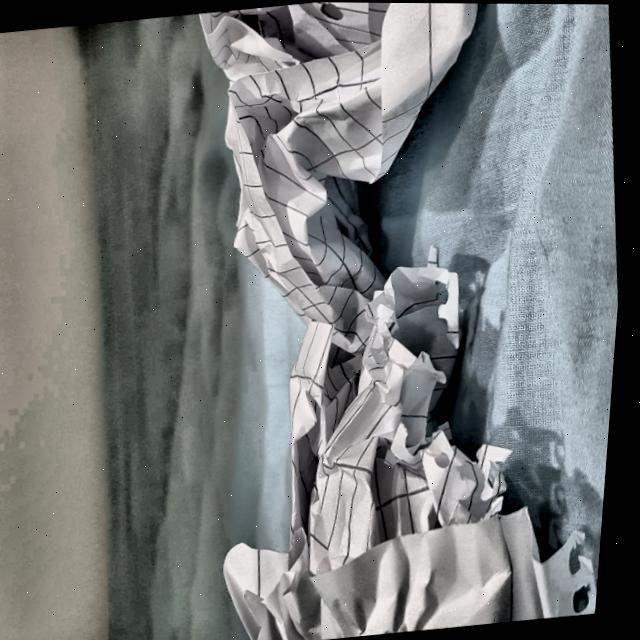paper: (191, 277, 624, 640), (157, 1, 513, 288)
